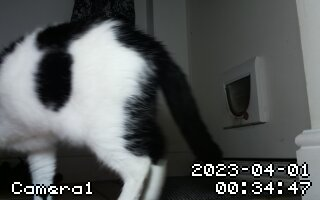bad: (2, 22, 228, 193)
